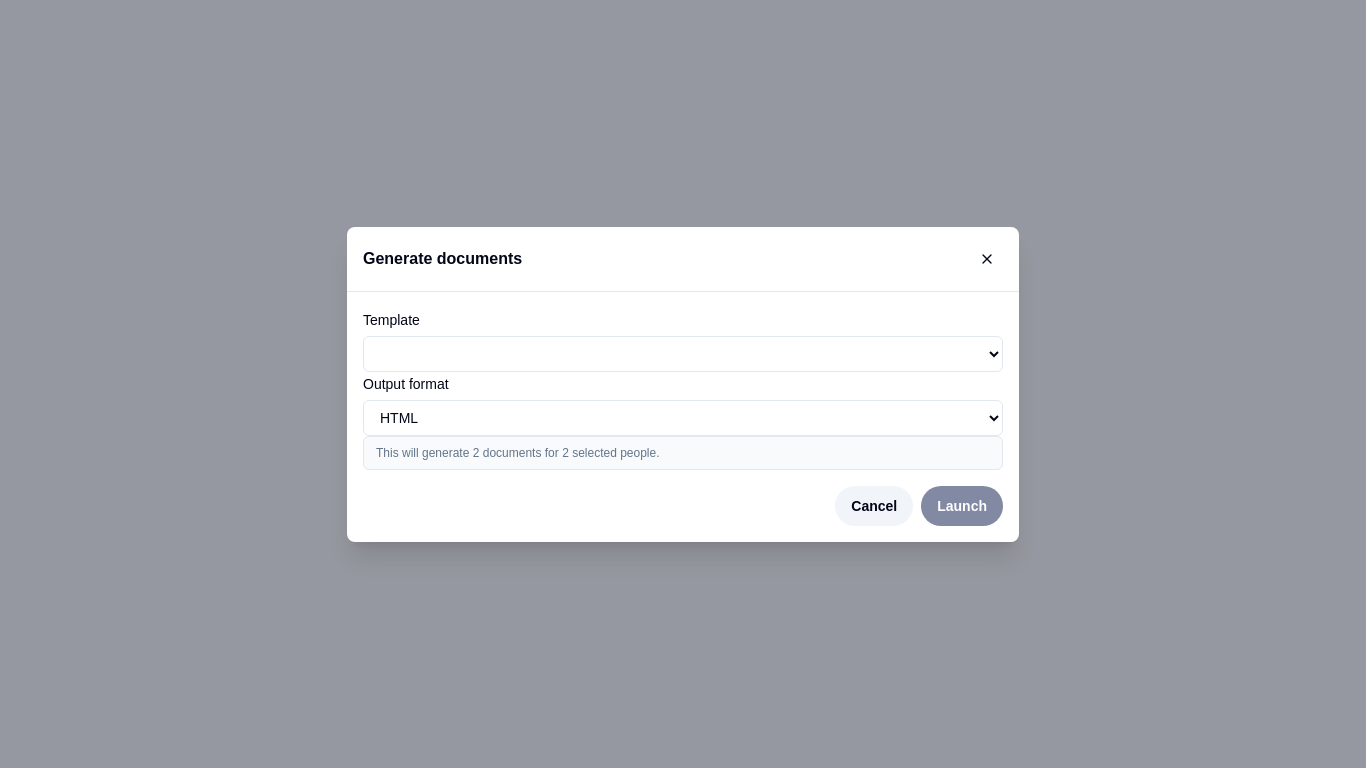
MhdDocumentMergeBatchLauncher › launches a batch with the selected template, format, and recipients
Select "PDF" in the dropdown labelled "Output format" at (683, 418), box [363, 400, 1003, 436]
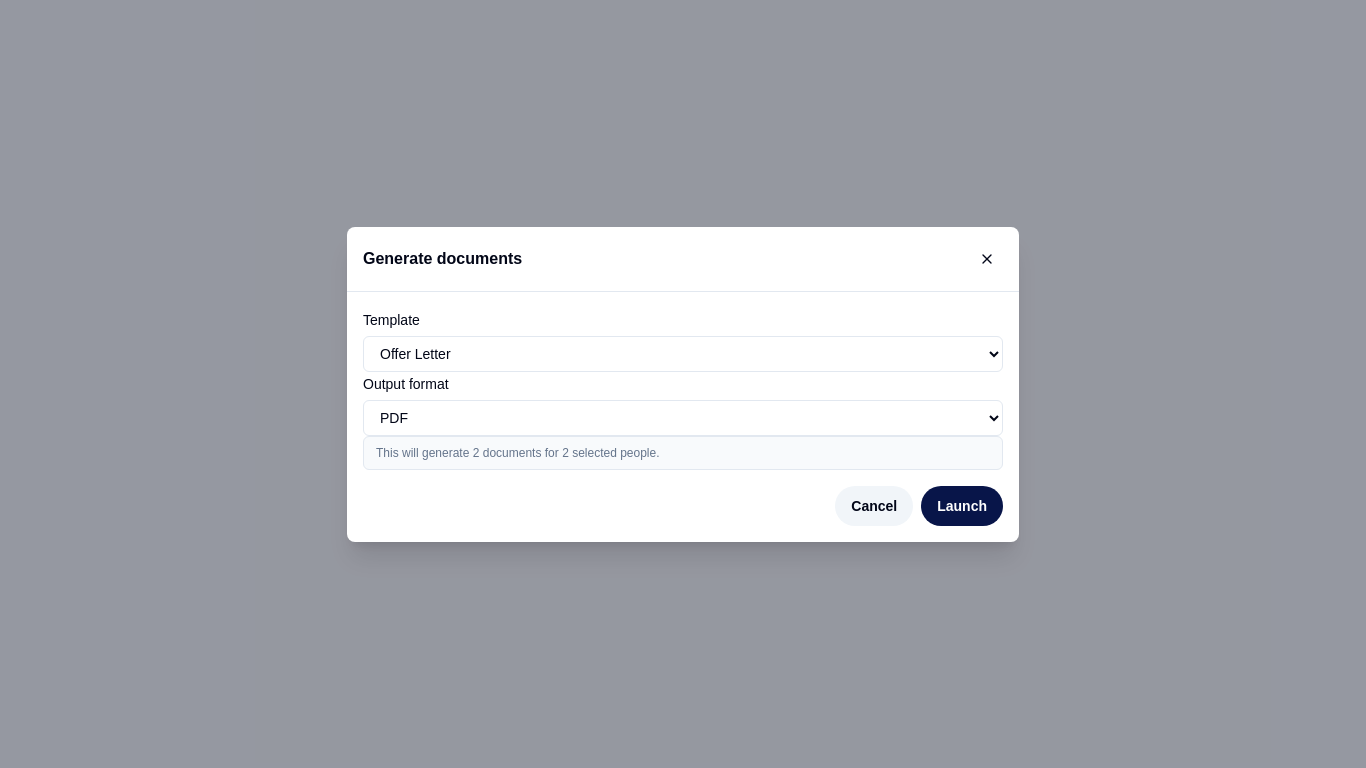
Click the button "Launch" at (962, 506), box [921, 486, 1003, 526]
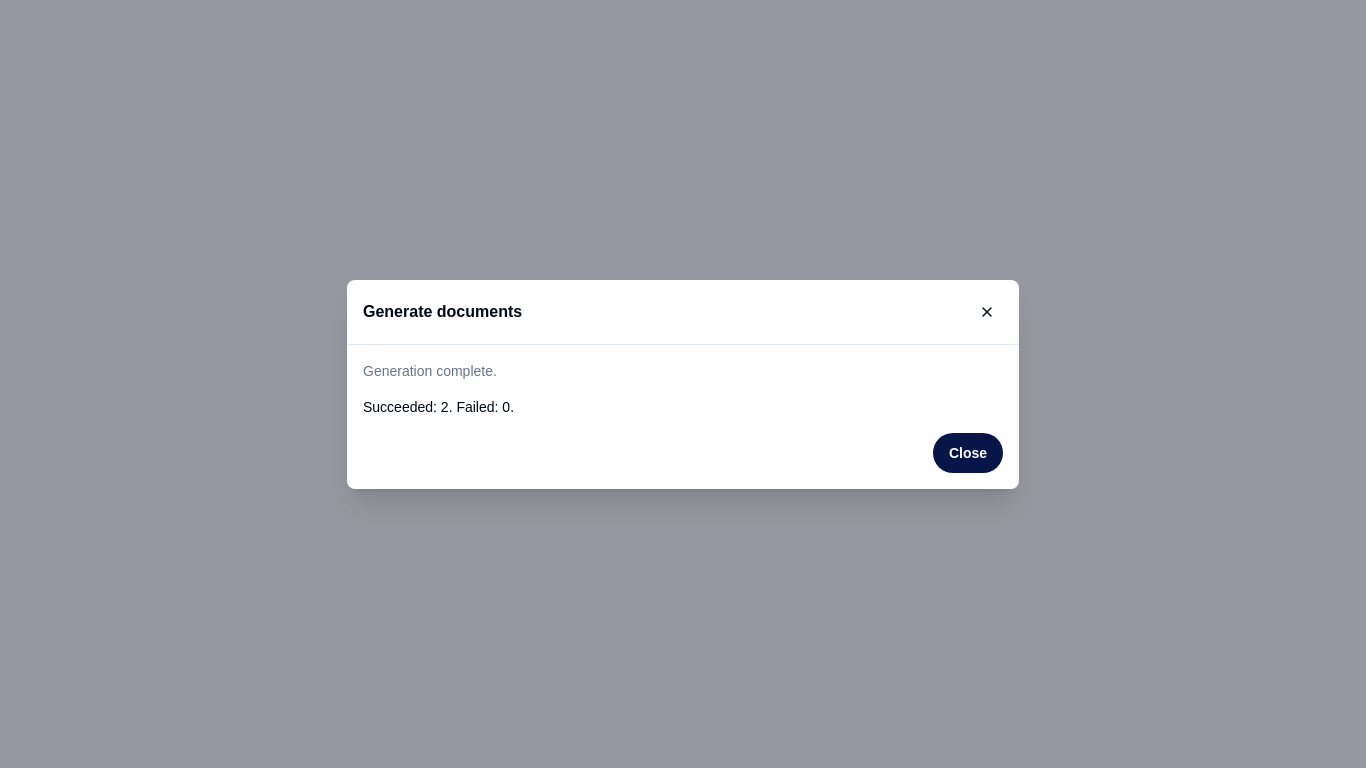
Now the text "Generation complete." is shown, box [363, 362, 497, 378]
